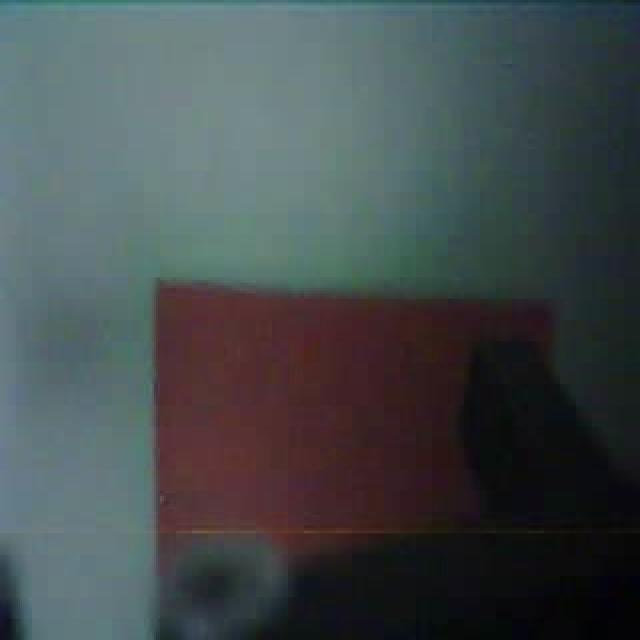red_box: (150, 269, 556, 640)
